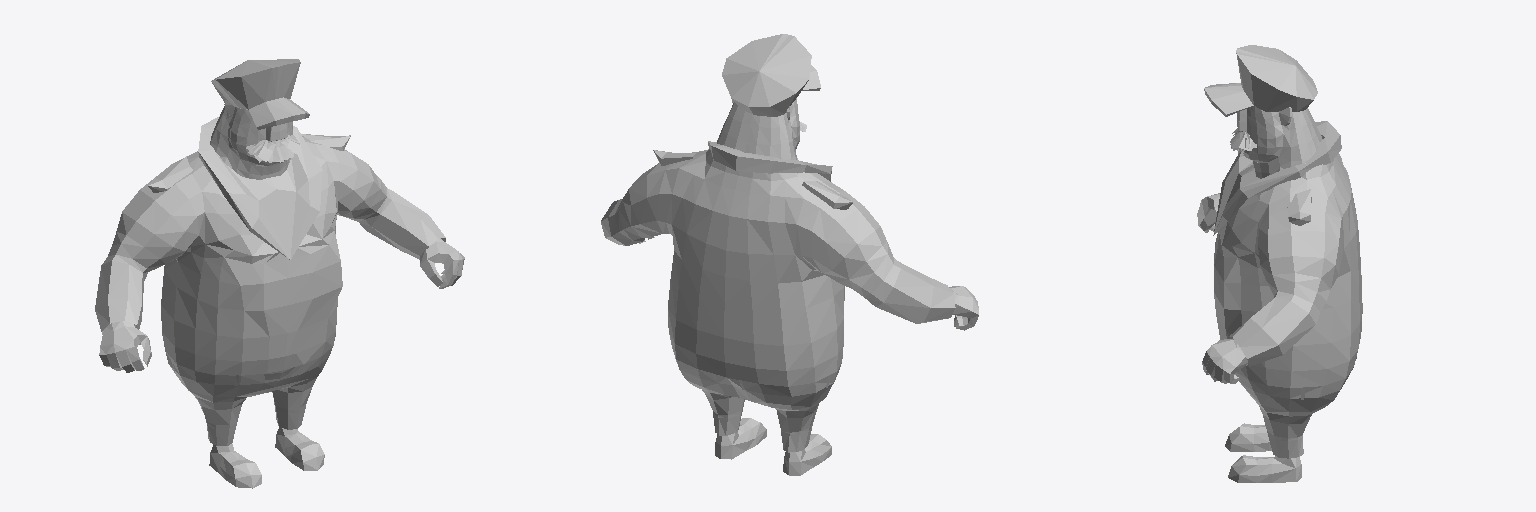
The model's file is inspector.obj.
3 renders of one model, left to right at view 1: azimuth 30°, elevation 25°; view 2: azimuth 150°, elevation 25°; view 3: azimuth 270°, elevation 25°, orthographic.
Visible parts, largest first — view 1: default, default 2, default 1; view 2: default, default 2; view 3: default, default 2.
Boxes of the visible parts, x1,y1,x2,y2 form: default: [95, 100, 464, 445]; default 2: [148, 59, 350, 488]; default 1: [246, 135, 300, 162]; default: [601, 98, 978, 452]; default 2: [653, 34, 852, 475]; default: [1197, 106, 1362, 458]; default 2: [1204, 45, 1341, 482].
Bounding box in the file's own units: 1.79 × 1.9 × 0.6962.